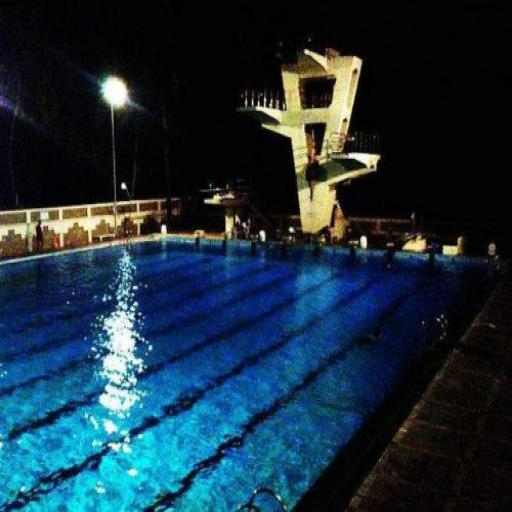swimming: (483, 237, 501, 275), (31, 215, 47, 255)
